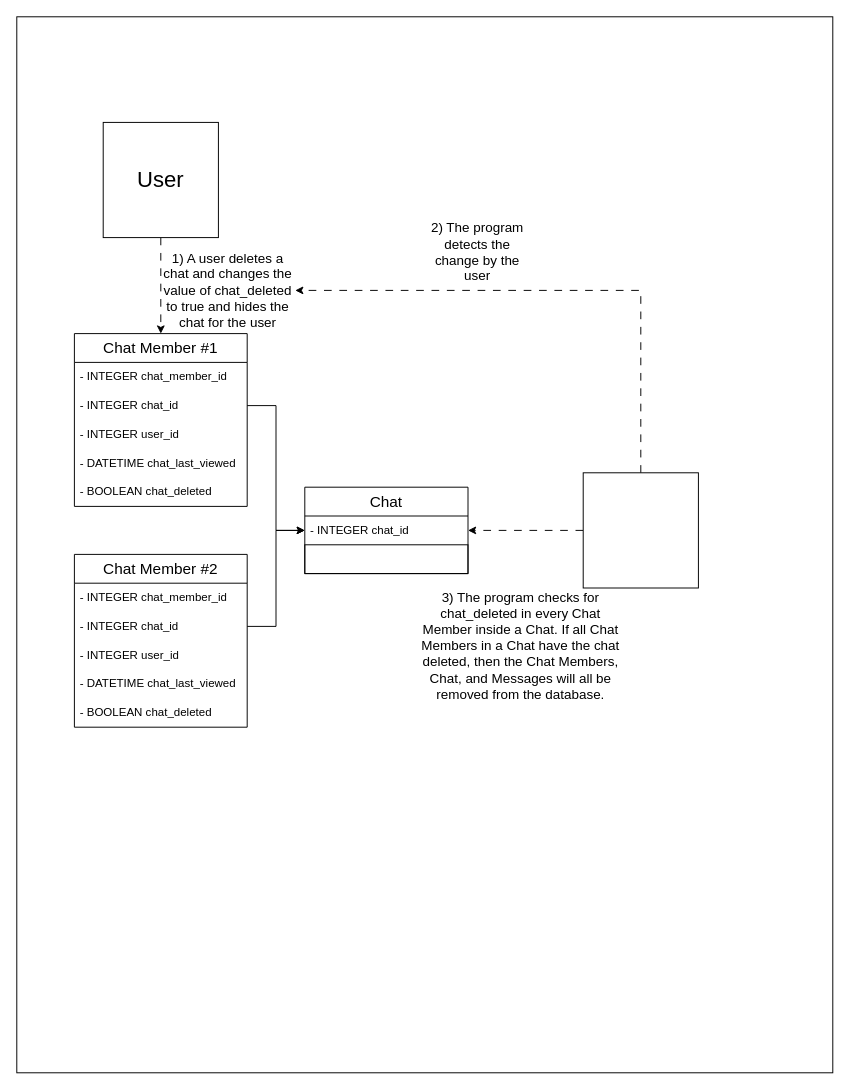
This 850x1090 diagram has some shape labels left out. Here are the shapes that lost their labels. From the top down, the centre of each, then its label:
At point 640,530: "Website Python Program".
At point 386,559: "- varchar(500) chat_name".
